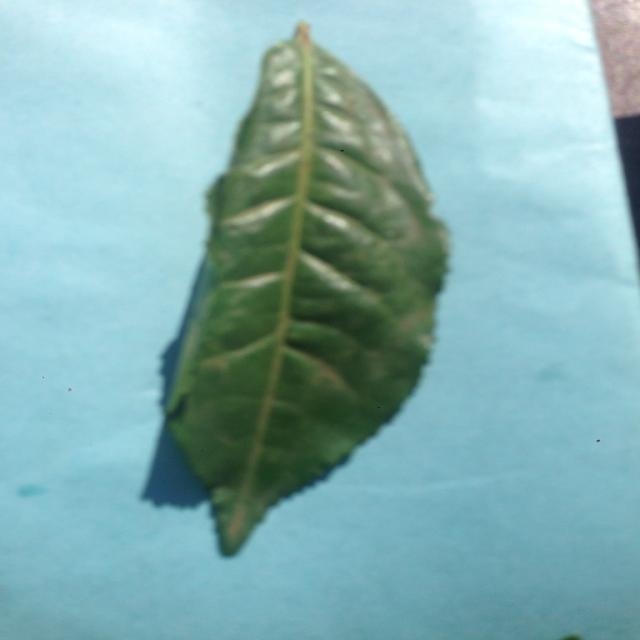Healthy: (154, 9, 469, 562)
